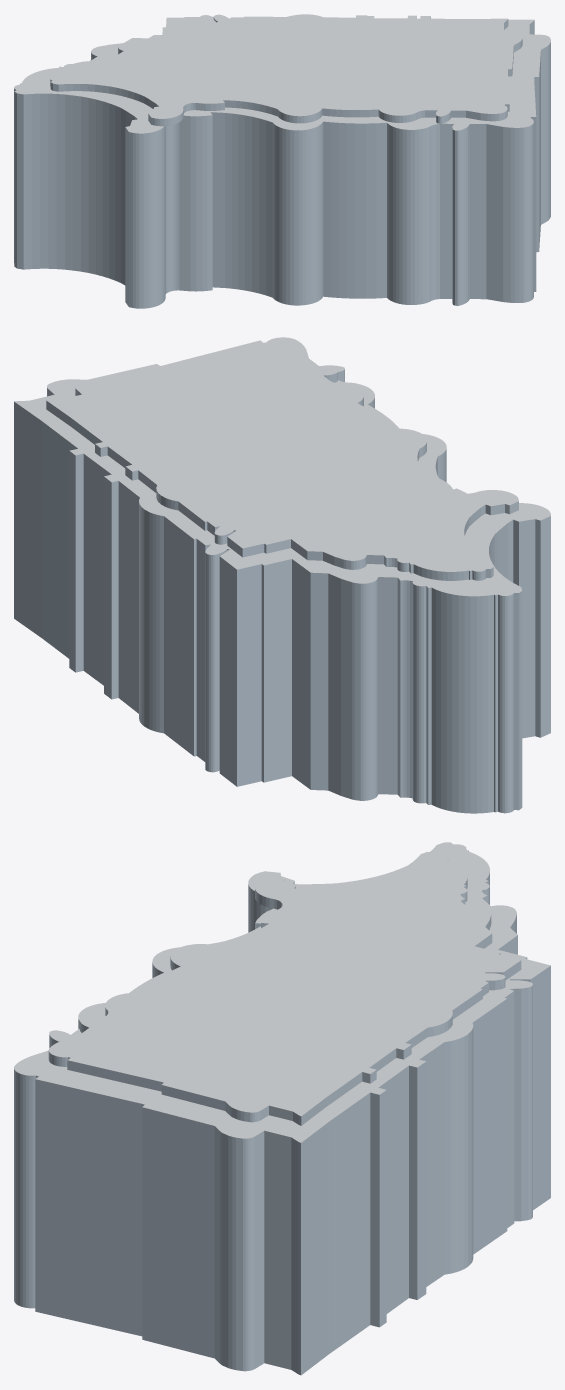
File: building_0_1.glb
The picture shows the model from 3 angles, top to bottom: view 1: azimuth 30°, elevation 25°; view 2: azimuth 150°, elevation 25°; view 3: azimuth 270°, elevation 25°; orthographic projection. The views are drawn at different scales.
Visible parts, largest first — view 1: landmark_glass, landmark_trim; view 2: landmark_glass, landmark_trim; view 3: landmark_glass, landmark_trim.
Part boxes in pixels (x1,y1,x2,y2): landmark_glass: (14, 17, 550, 308); landmark_trim: (14, 14, 550, 133); landmark_glass: (14, 369, 550, 813); landmark_trim: (14, 337, 550, 596); landmark_glass: (14, 849, 550, 1375); landmark_trim: (14, 842, 550, 1142).
Bounding box in the file's own units: 804 × 302 × 607.
